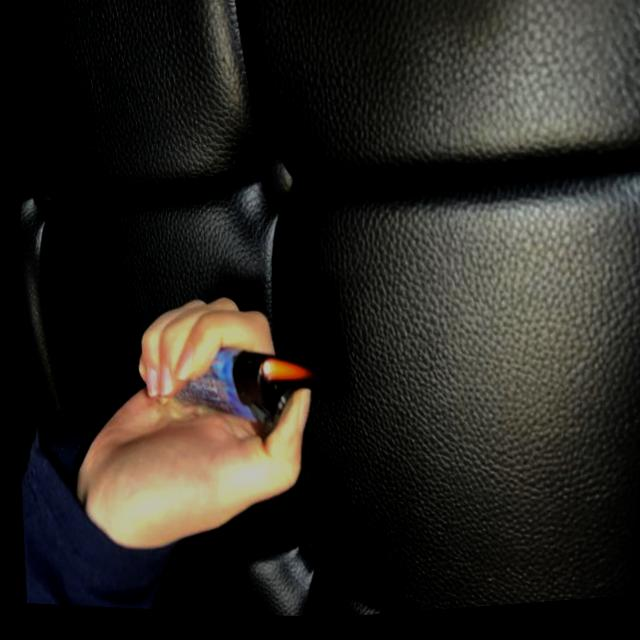helmet: (252, 356, 313, 394)
